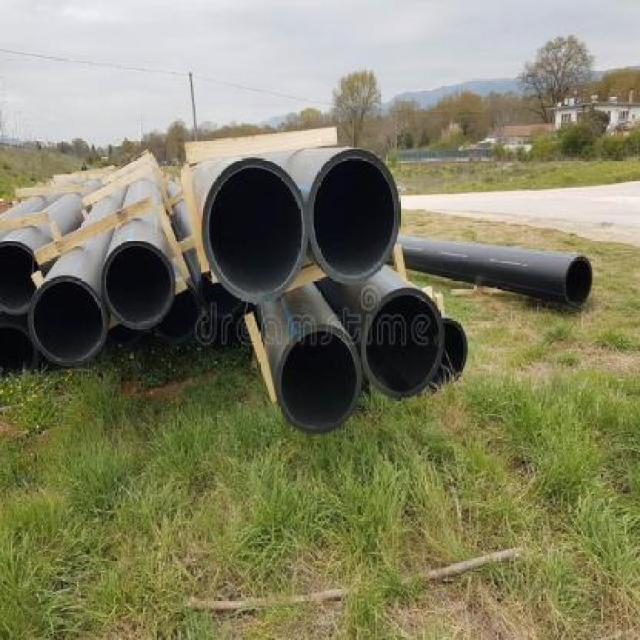pipe: (203, 157, 309, 303), (307, 150, 401, 284), (276, 323, 362, 432), (361, 287, 444, 396), (28, 275, 108, 366), (102, 239, 176, 330), (0, 239, 40, 315), (431, 319, 468, 388), (564, 257, 593, 306)
